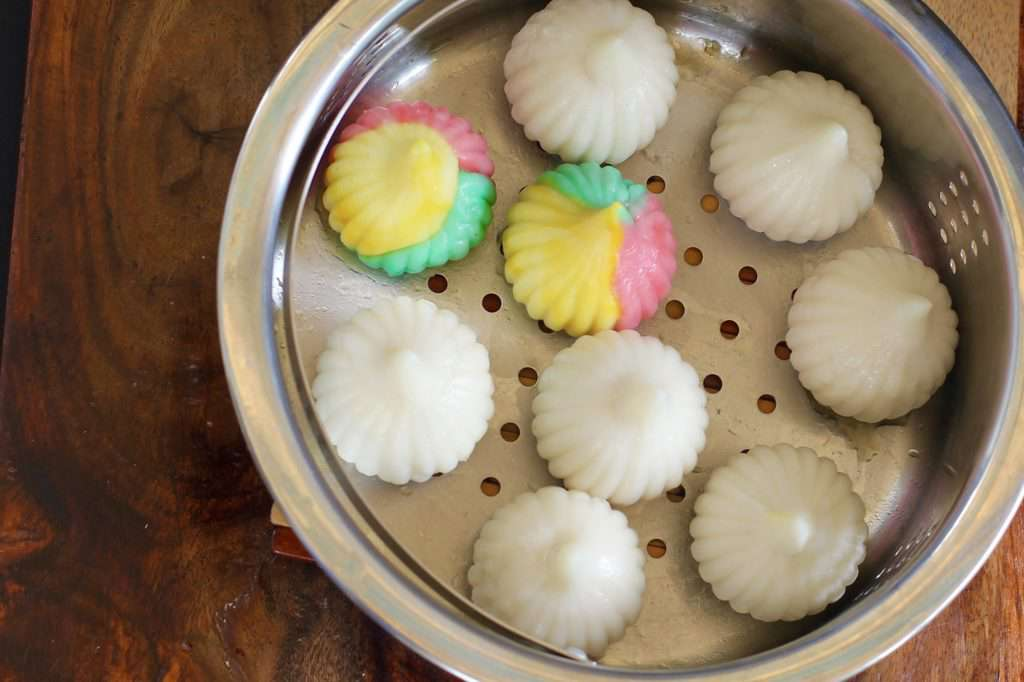modak: (685, 402, 878, 644), (315, 283, 502, 504), (699, 68, 899, 250), (460, 483, 686, 642), (505, 326, 704, 506), (504, 4, 712, 164), (797, 237, 966, 424)
